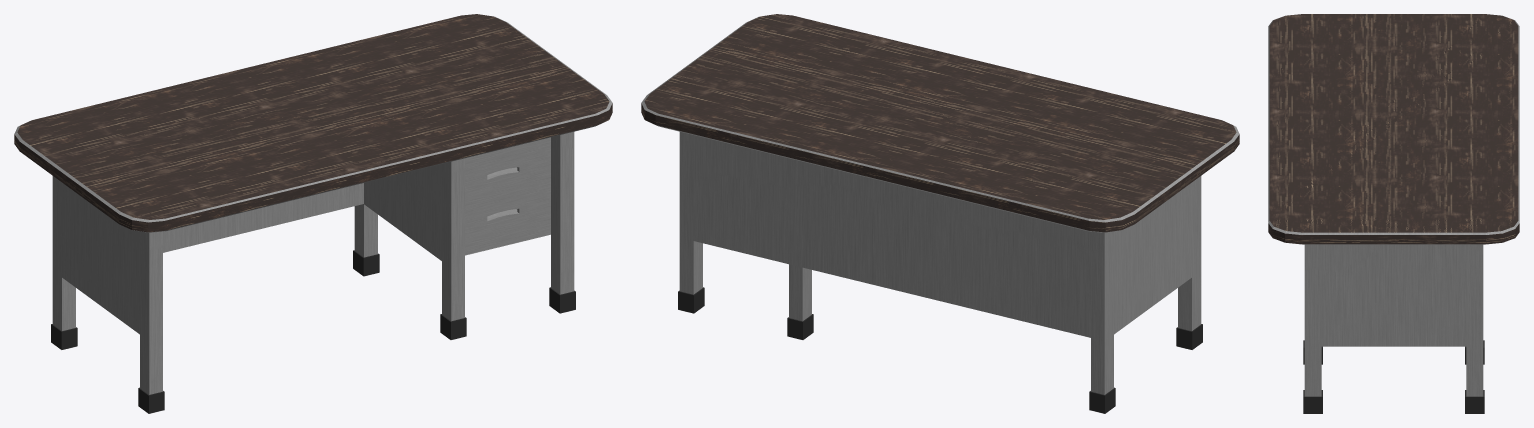
The model's file is table.fbx.
The picture shows the model from 3 angles, left to right: view 1: azimuth 30°, elevation 25°; view 2: azimuth 150°, elevation 25°; view 3: azimuth 270°, elevation 25°; orthographic projection. The views are drawn at different scales.
Visible parts, largest first — view 1: Table, Drawer_2, Drawer_3, Drawer_1.001; view 2: Table; view 3: Table.
Boxes of the visible parts, x1,y1,x2,y2 form: Table: [14, 14, 612, 413]; Drawer_2: [465, 151, 550, 213]; Drawer_3: [465, 193, 550, 254]; Drawer_1.001: [465, 137, 550, 172]; Table: [641, 14, 1239, 413]; Table: [1268, 14, 1519, 413].
Size of the model in its own units: 1.68 by 0.6878 by 0.8083.
